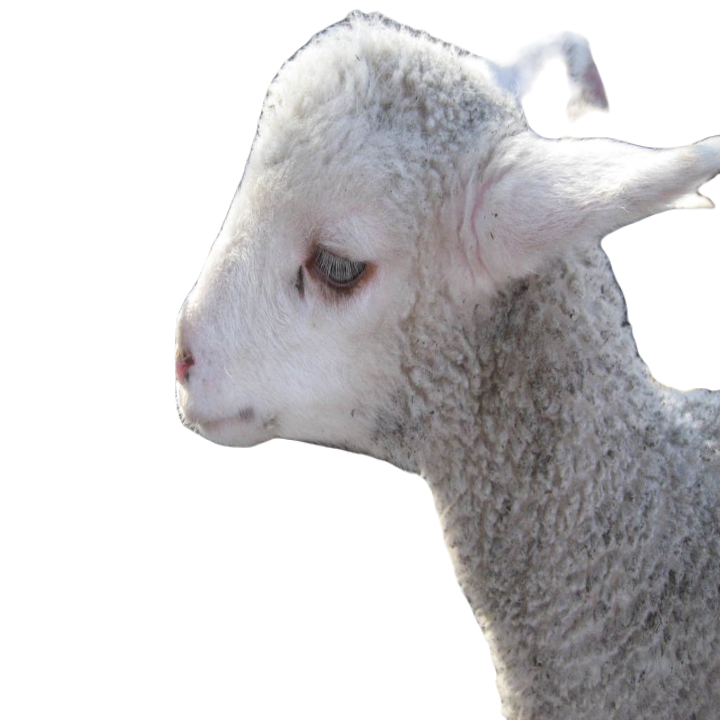Sheep: (165, 6, 719, 719)
